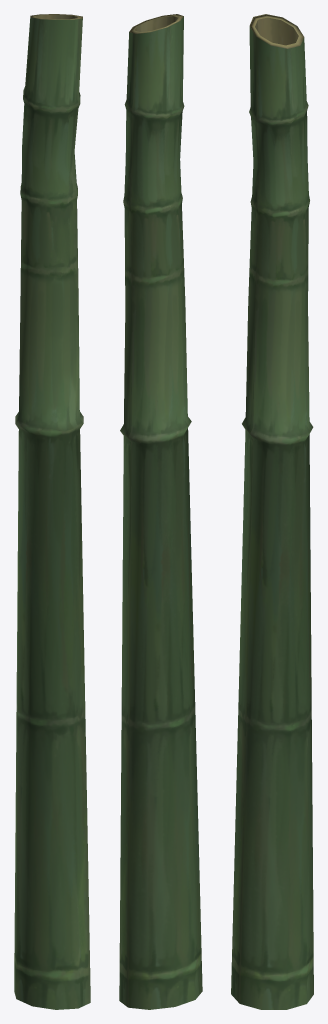
File: SM_EastLands_Bamboo_Medium_02_Stump.fbx
The picture shows the model from 3 angles, left to right: view 1: azimuth 90°, elevation 25°; view 2: azimuth 150°, elevation 25°; view 3: azimuth 330°, elevation 25°; orthographic projection.
Parts seen in each view (by area): view 1: SM_EastLands_Bamboo_Medium_02_Stump_LOD0; view 2: SM_EastLands_Bamboo_Medium_02_Stump_LOD0; view 3: SM_EastLands_Bamboo_Medium_02_Stump_LOD0.
Part boxes in pixels (<box>): SM_EastLands_Bamboo_Medium_02_Stump_LOD0: <box>14,14,90,1009</box>; SM_EastLands_Bamboo_Medium_02_Stump_LOD0: <box>119,14,202,1009</box>; SM_EastLands_Bamboo_Medium_02_Stump_LOD0: <box>231,14,313,1009</box>.
Bounding box in the file's own units: 29.59 × 414 × 29.07.
